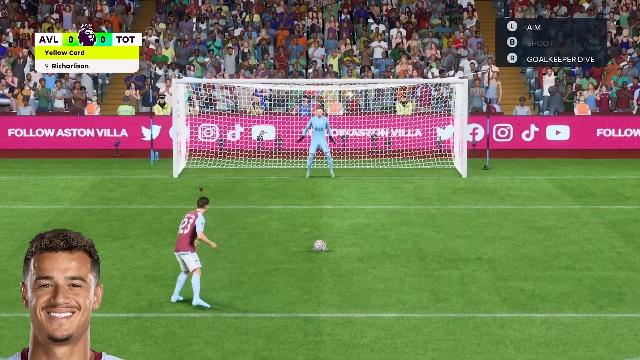football: (314, 239, 328, 251)
goal-bottom-left: (178, 132, 270, 180)
goal-bottom-right: (365, 130, 463, 178)
goal-middle-down: (272, 131, 362, 179)
goal-middle-up: (273, 84, 363, 128)
goal-top-left: (177, 84, 269, 130)
goal-top-right: (365, 84, 463, 128)
goalkeeper: (298, 108, 338, 180)
player: (172, 195, 220, 315)
